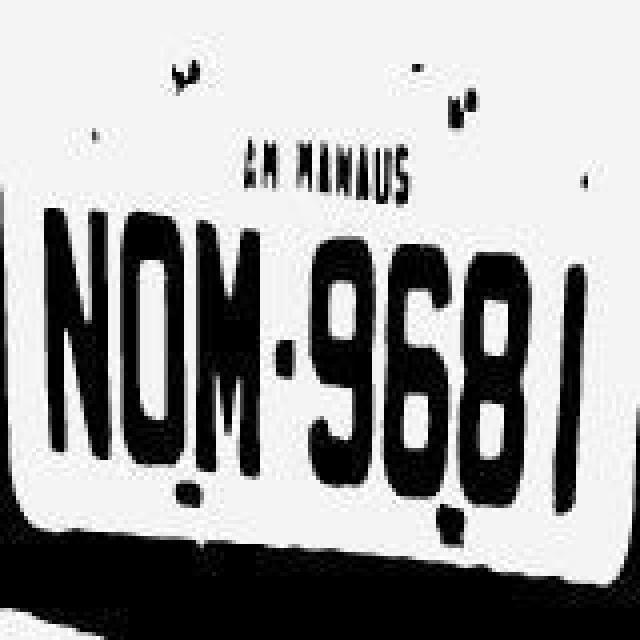1: (532, 256, 604, 544)
6: (380, 230, 460, 506)
8: (454, 238, 538, 530)
9: (300, 218, 380, 502)
M: (188, 184, 268, 480)
N: (36, 182, 116, 458)
O: (114, 206, 190, 482)
